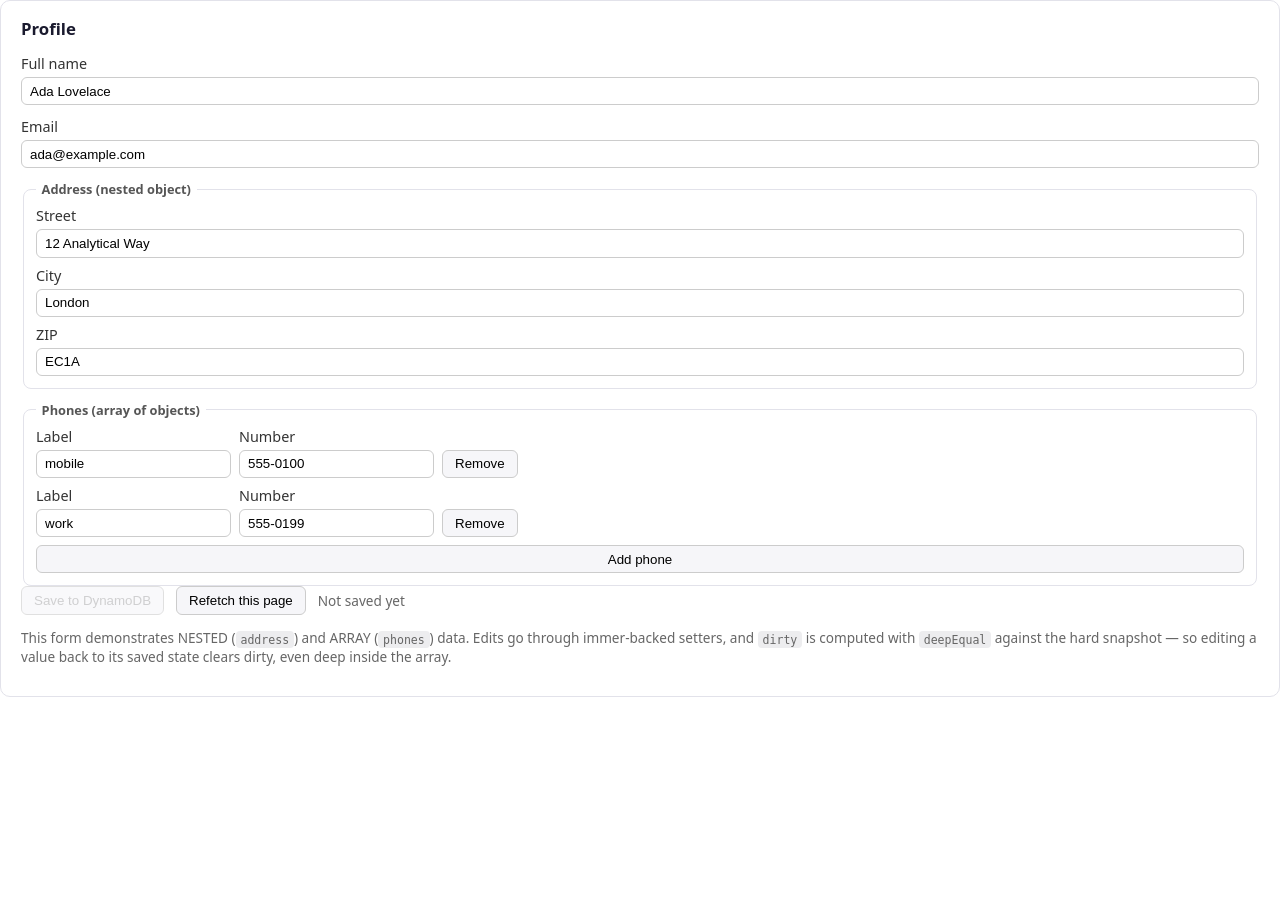
Scenario: <ProfilePage /> › editing a nested address field stages it and flips dirty
The width and height of the screenshot is (1280, 900).
Step 1. Replace the text in the field labelled "City" with "Rome" → (640, 303), box [36, 288, 1244, 317]
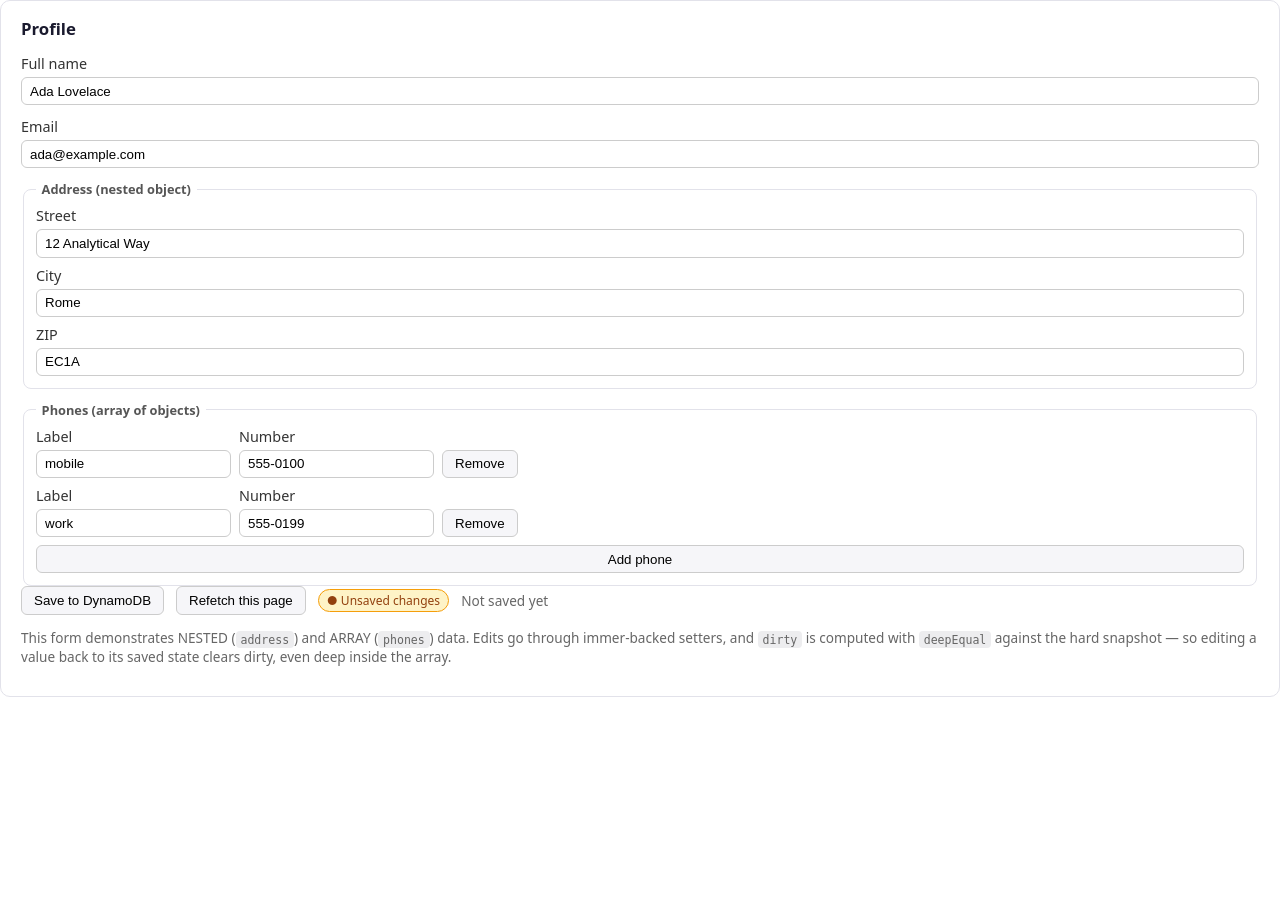
expect the text "● Unsaved changes" is shown: met, box [318, 589, 449, 612]
